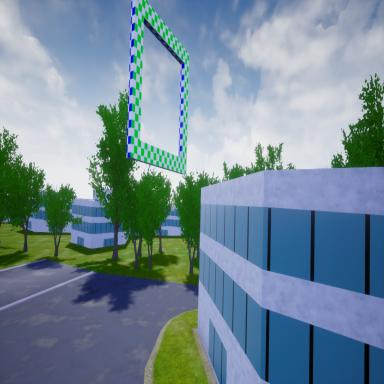gate: (127, 0, 190, 176)
